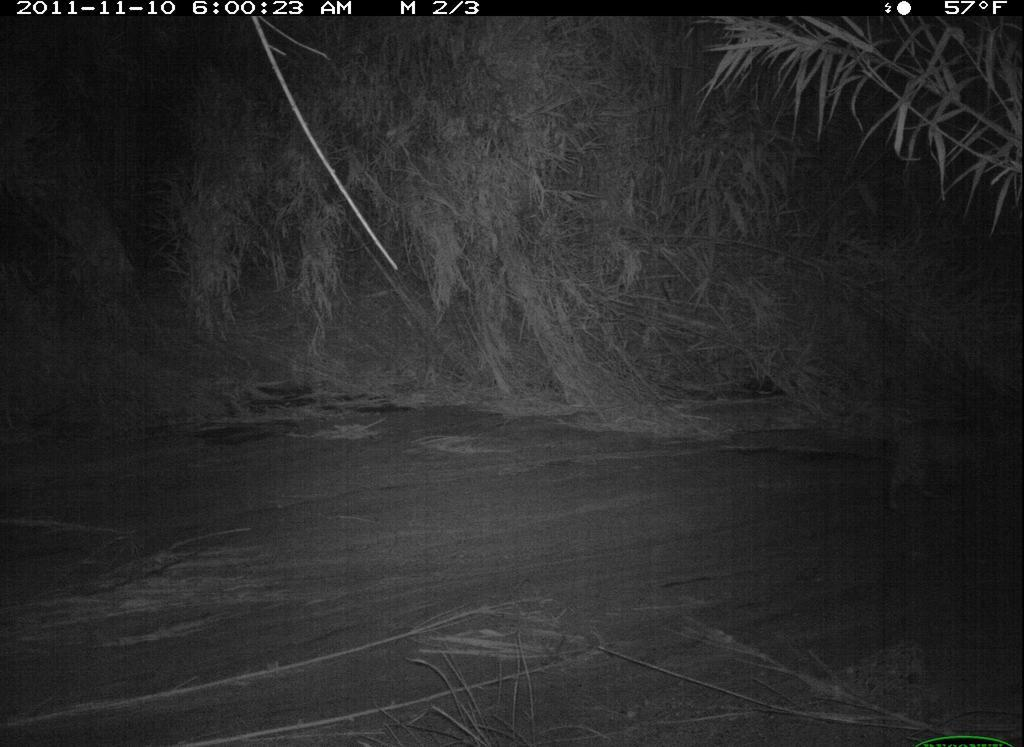bobcat: (870, 413, 1023, 523)
